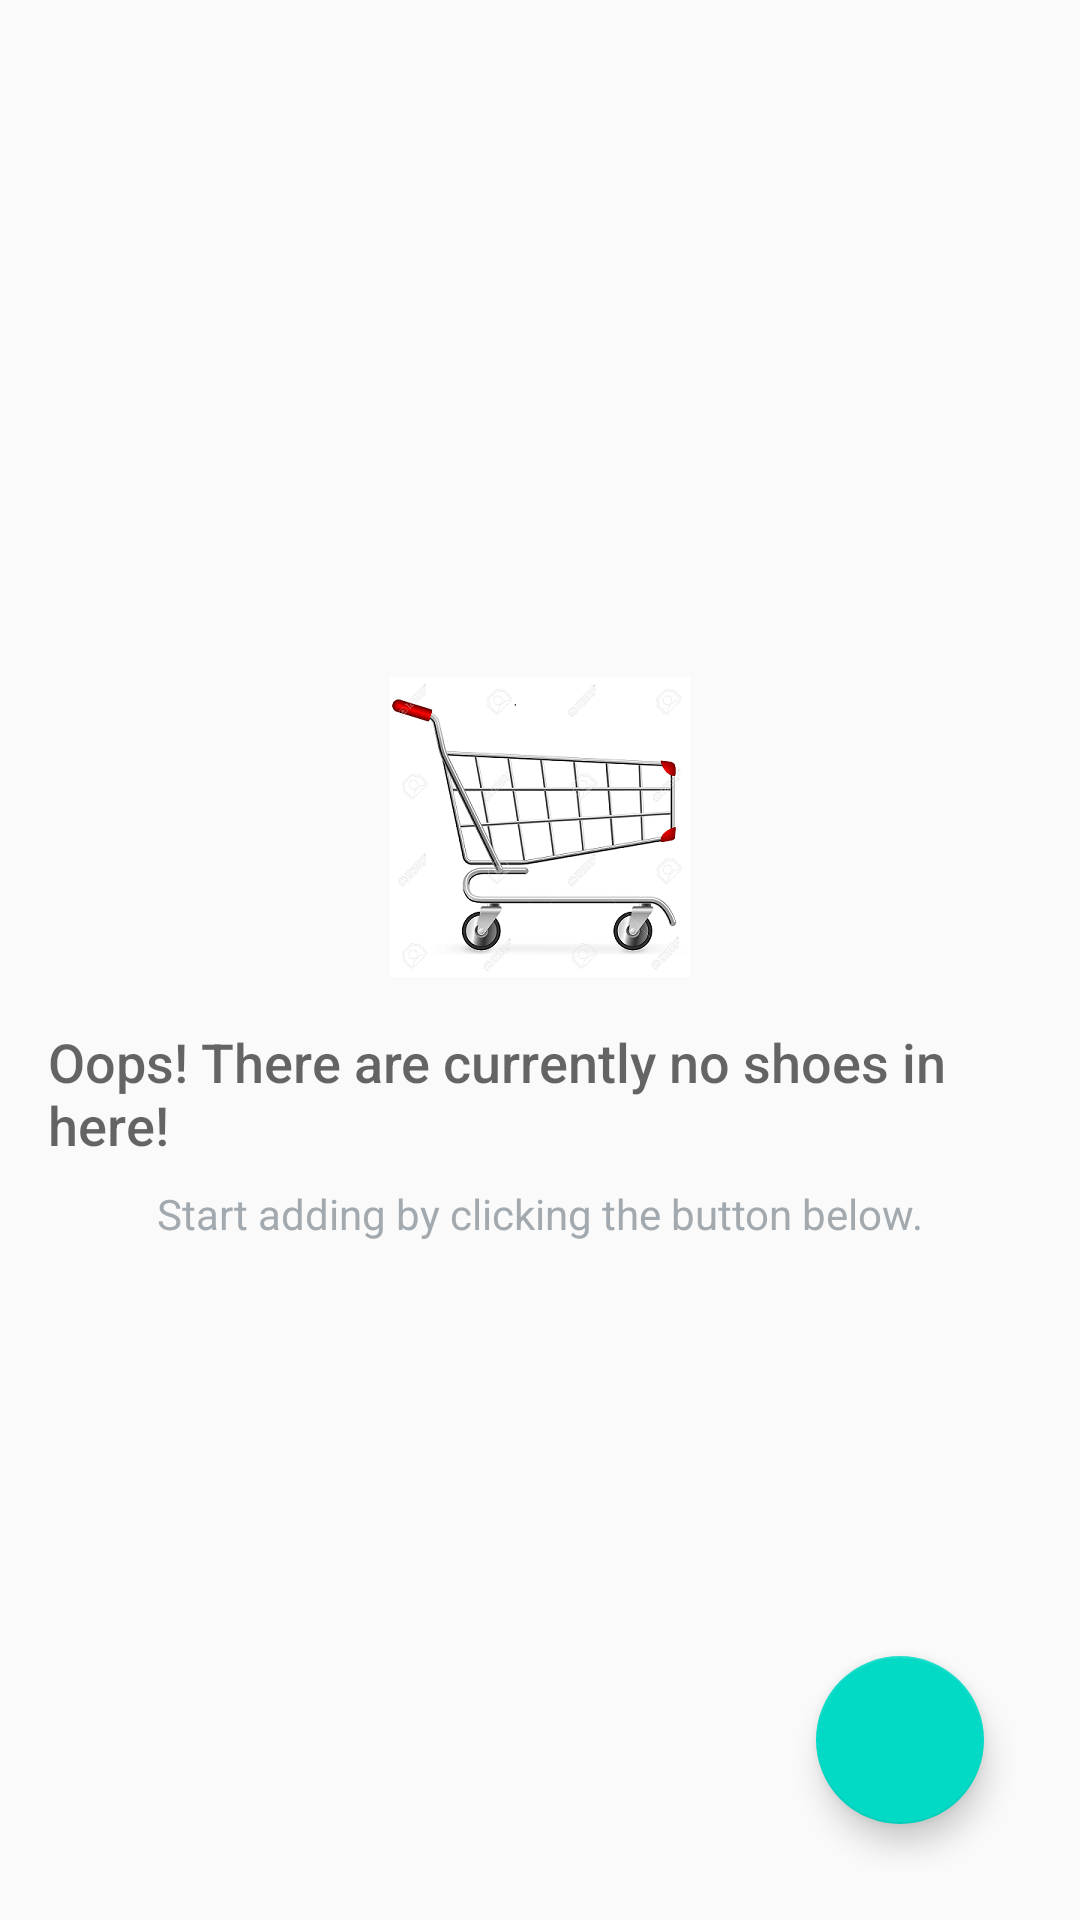

Named icons in this screenshot (1080x1920) and their centers, [x,y]:
empty cart: [536,828]
